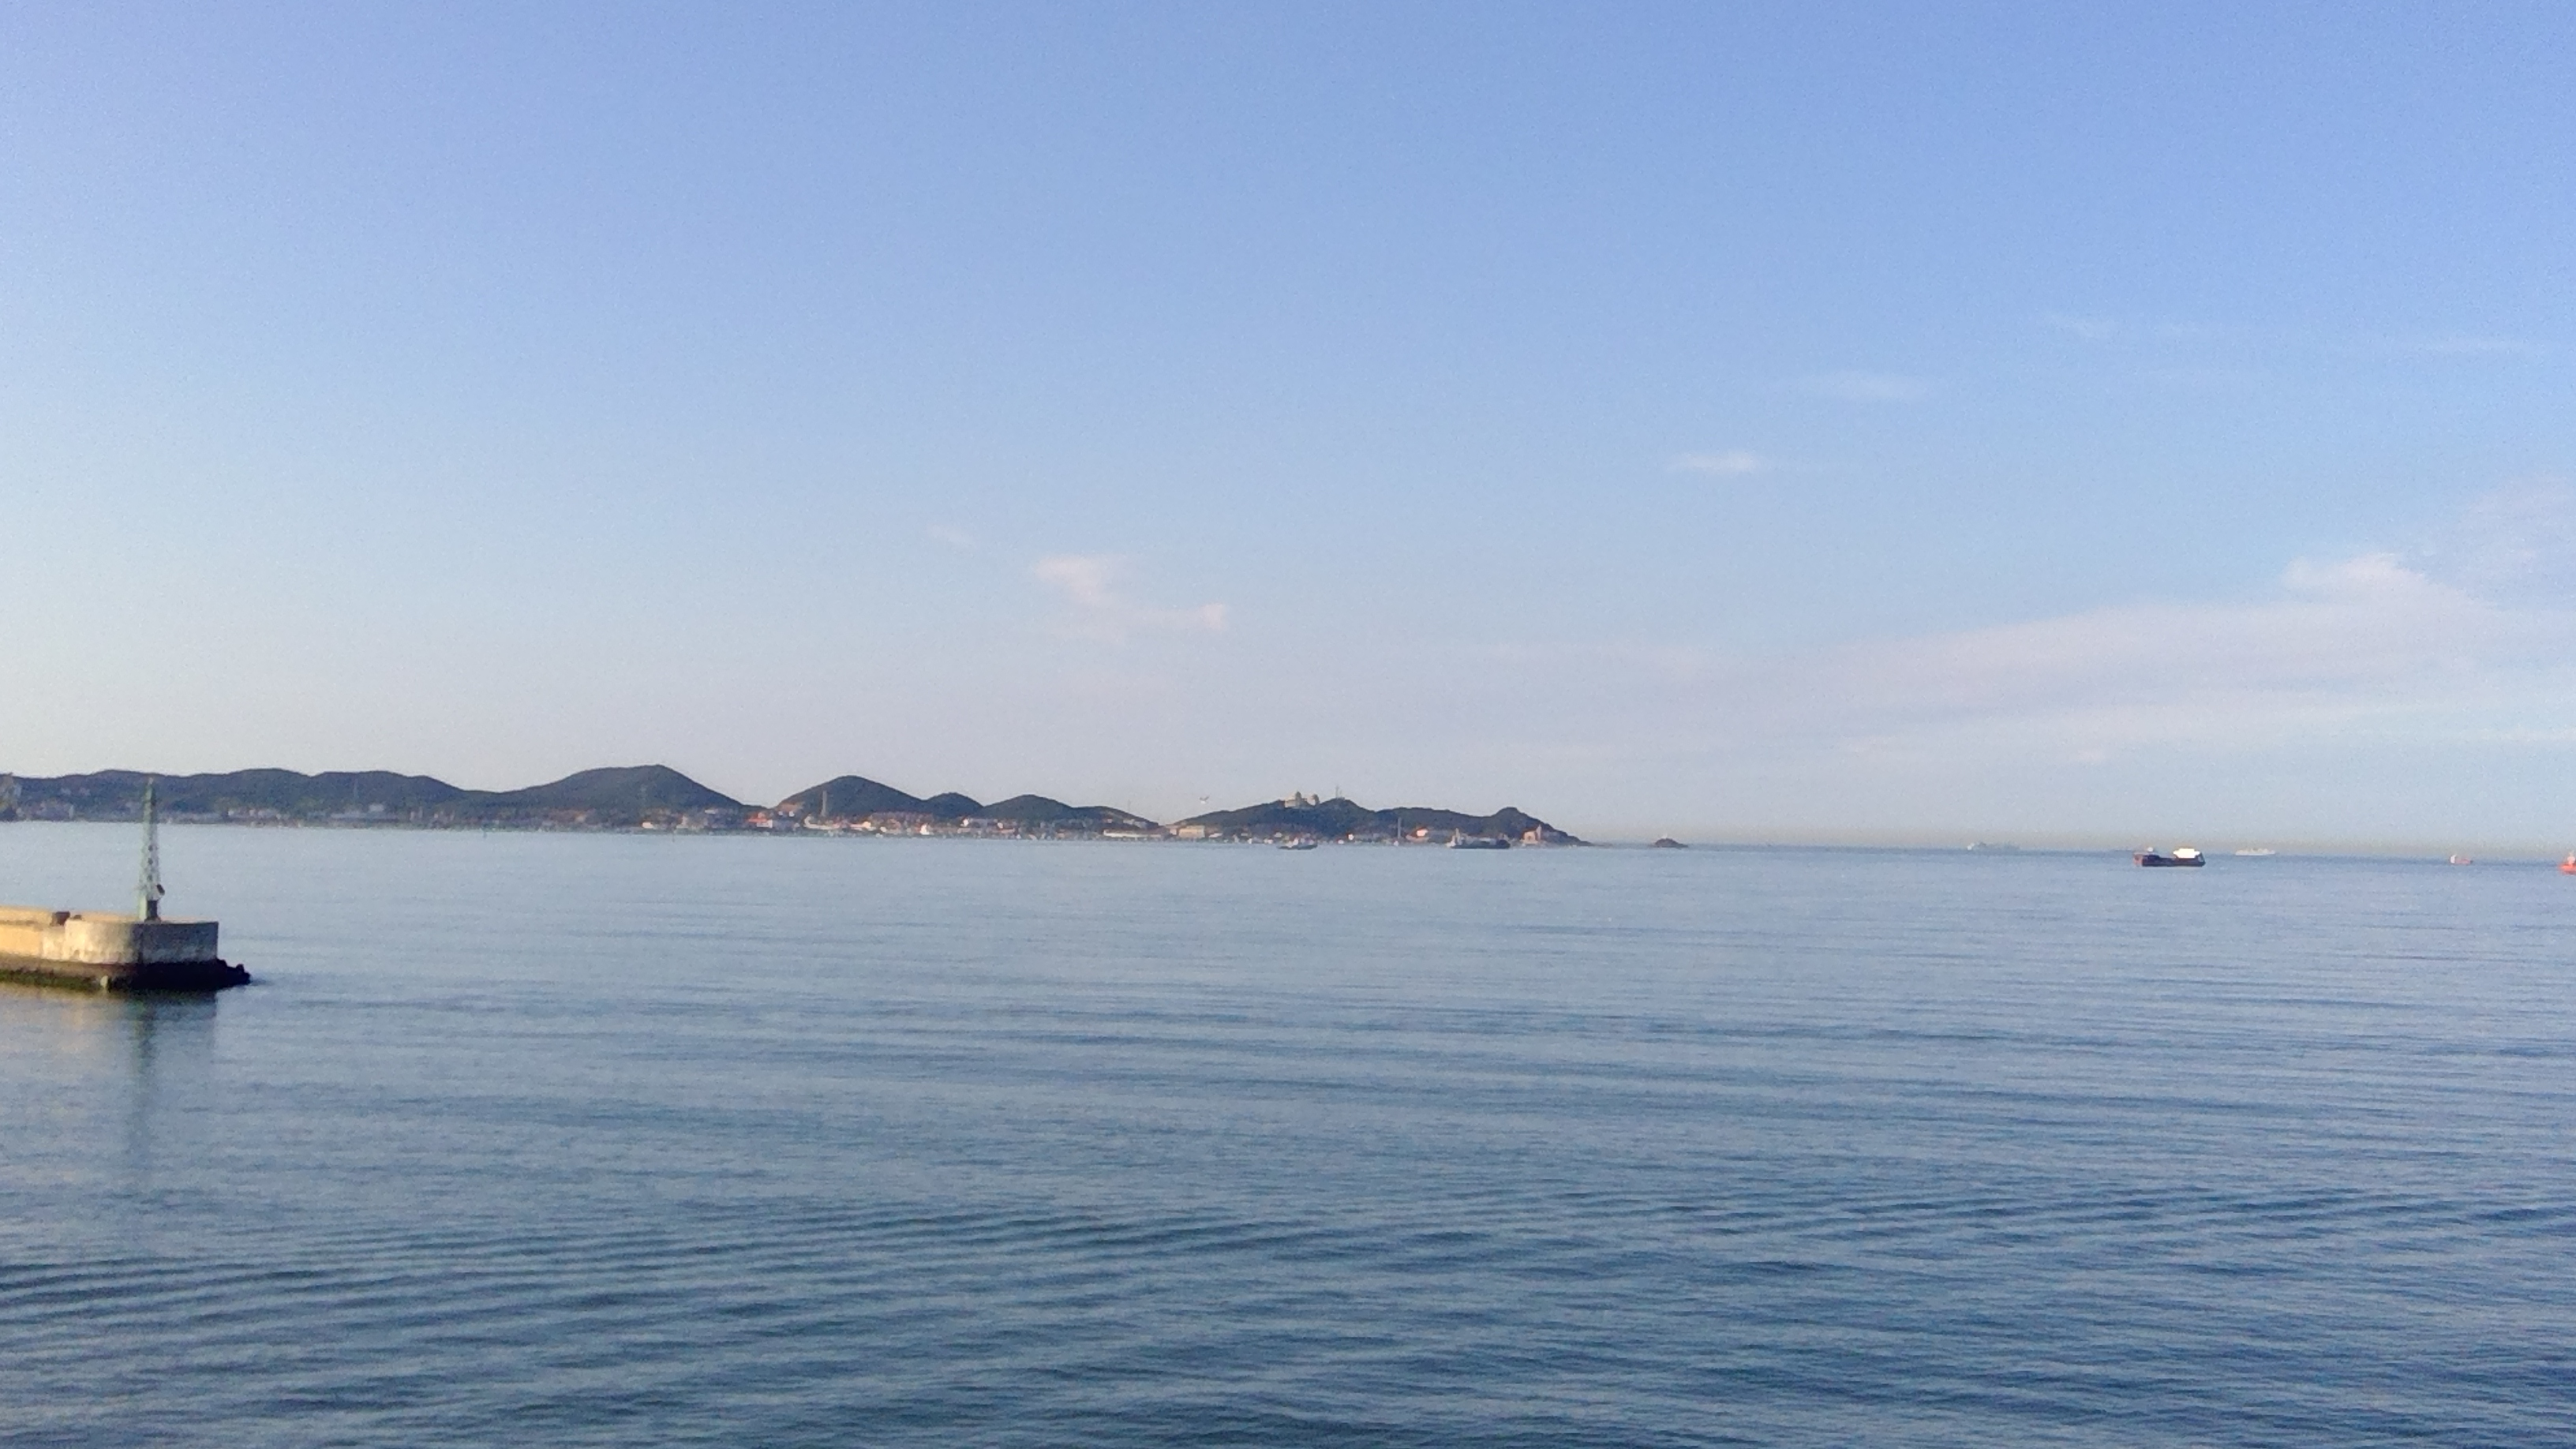boat: (0, 800, 278, 1039), (2130, 828, 2210, 872)
rock: (800, 745, 1136, 849), (0, 764, 481, 835), (1164, 784, 1606, 855)
